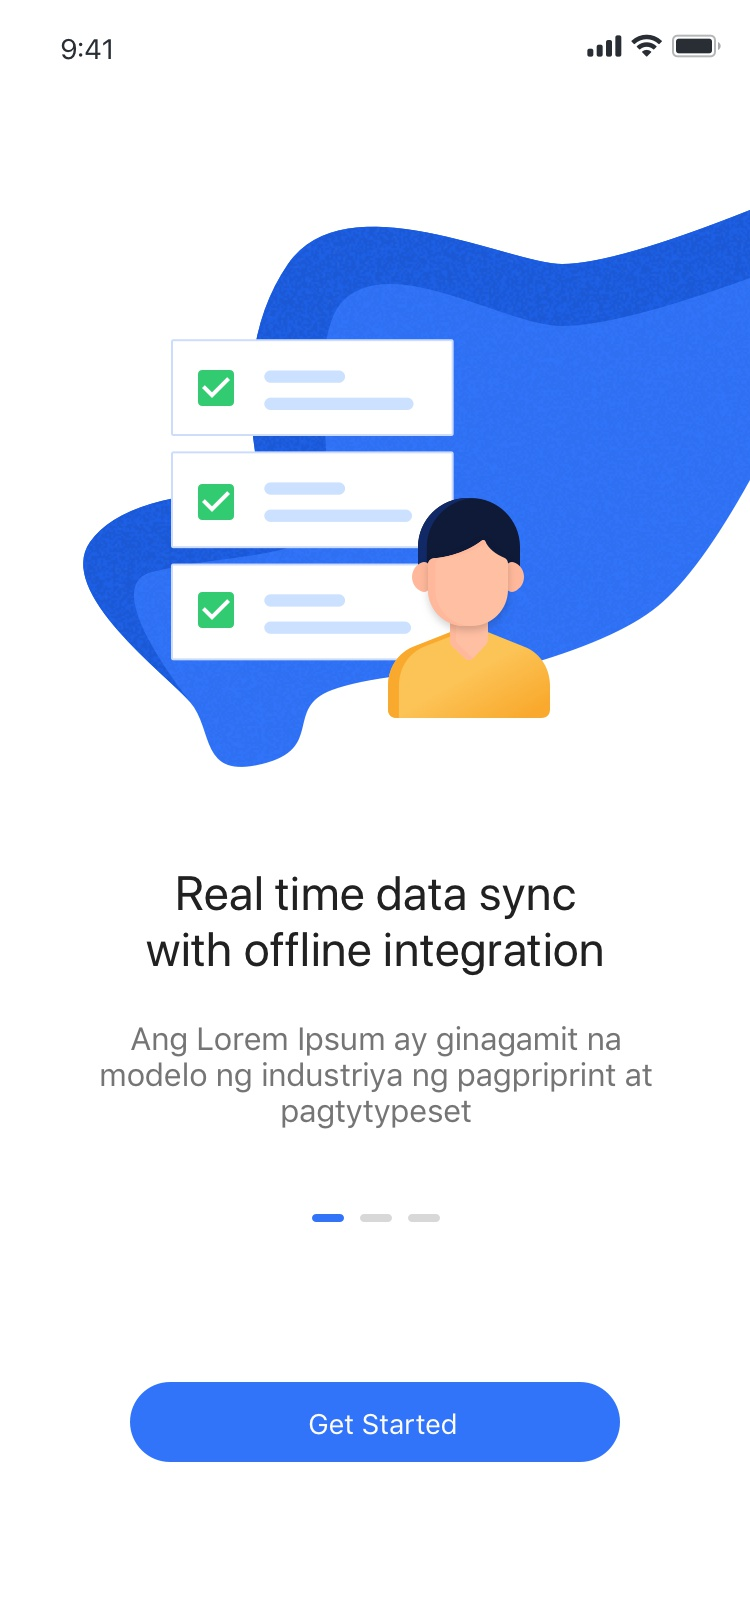Image: (170, 339, 553, 720)
PageIndicator: (311, 1212, 442, 1224)
Text: (100, 1025, 653, 1130), (147, 875, 604, 976)
TextButton: (129, 1382, 621, 1462)
UpperTaskBar: (61, 34, 722, 62)
